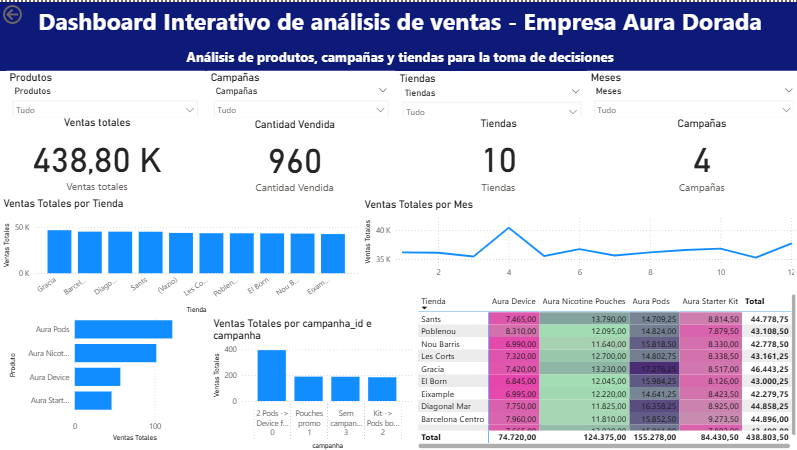

What the dashboard file says about the page in this screenshot:
{"tool":"powerbi","page":{"name":"Página 1","canvas":[1280,720],"ordinal":0},"visuals":[{"type":"lineChart","fields":{"Y":["Sum(ventas_limpio (1).vendas_totais)"],"Category":["ventas_limpio (1).mes"]},"box":[577.2,313,703.1,137],"z":0},{"type":"card","title":"Ventas totales","fields":{"Values":["Sum(ventas_limpio (1).vendas_totais)"]},"box":[0,182.2,310.6,129.6],"z":1000},{"type":"card","title":"Campañas","fields":{"Values":["Count(campañas_limpio.campanha)"]},"box":[966,184.6,314.3,127.2],"z":2000},{"type":"barChart","fields":{"Category":["productos_limpio.produto"],"Y":["Count(ventas_limpio (1).vendas_totais)"]},"box":[9.8,462.2,316.7,245.8],"z":3000},{"type":"columnChart","fields":{"Category":["tiendas_limpio.loja"],"Y":["Sum(ventas_limpio (1).vendas_totais)"]},"box":[0,311.8,577.2,192],"z":4000},{"type":"textbox","box":[0,0,1280.3,110.1],"z":5000},{"type":"slicer","title":"Tiendas","fields":{"Values":["tiendas_limpio.loja"]},"box":[633.4,111.3,305.7,74.6],"z":6000},{"type":"slicer","title":"Produtos","fields":{"Values":["productos_limpio.produto"]},"box":[9.8,110.1,316.7,74.6],"z":7000},{"type":"slicer","title":"Campañas","fields":{"Values":["campañas_limpio.campanha"]},"box":[331.4,110.1,299.6,74.6],"z":8000},{"type":"slicer","title":"Meses","fields":{"Values":["ventas_limpio (1).mes"]},"box":[939.1,110.1,341.2,74.6],"z":9000},{"type":"card","title":"Cantidad Vendida","fields":{"Values":["CountNonNull(ventas_limpio (1).quantidade)"]},"box":[311.8,185.9,319.2,126],"z":10000},{"type":"card","title":"Tiendas","fields":{"Values":["Count(ventas_limpio (1).loja)"]},"box":[640.8,184.6,315.5,127.2],"z":11000},{"type":"lineStackedColumnComboChart","fields":{"Y":["CountNonNull(ventas_limpio (1).vendas_totais)"],"Category":["campañas_limpio.campanha_id","campañas_limpio.campanha"]},"box":[335.1,503.8,328.9,216.4],"z":12000},{"type":"pivotTable","fields":{"Rows":["tiendas_limpio.loja"],"Columns":["productos_limpio.produto"],"Values":["Sum(ventas_limpio (1).vendas_totais)"]},"box":[664,462.2,616.3,258],"z":13000},{"type":"actionButton","box":[0,0,100,40],"z":14000}]}

Visuals, with their boxes in screenshot pixels (x1, y1, x2, y2), scaled from the page's 1280x720 canvas onto the 797x450 screenshot:
lineChart - Sum(ventas_limpio (1).vendas_totais) x ventas_limpio (1).mes: select_region(359, 196, 796, 281)
"Ventas totales" card: select_region(0, 114, 193, 195)
"Campañas" card: select_region(601, 115, 796, 195)
barChart - productos_limpio.produto x Count(ventas_limpio (1).vendas_totais): select_region(6, 289, 203, 442)
columnChart - tiendas_limpio.loja x Sum(ventas_limpio (1).vendas_totais): select_region(0, 195, 359, 315)
textbox: select_region(0, 0, 796, 69)
"Tiendas" slicer: select_region(394, 70, 585, 116)
"Produtos" slicer: select_region(6, 69, 203, 115)
"Campañas" slicer: select_region(206, 69, 393, 115)
"Meses" slicer: select_region(585, 69, 796, 115)
"Cantidad Vendida" card: select_region(194, 116, 393, 195)
"Tiendas" card: select_region(399, 115, 595, 195)
lineStackedColumnComboChart - CountNonNull(ventas_limpio (1).vendas_totais) x campañas_limpio.campanha_id: select_region(209, 315, 413, 449)
pivotTable - tiendas_limpio.loja x productos_limpio.produto: select_region(413, 289, 796, 449)
actionButton: select_region(0, 0, 62, 25)
